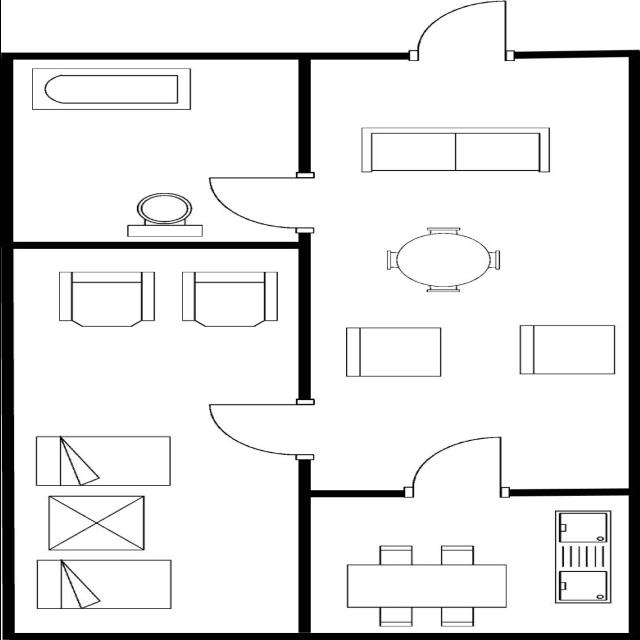armchair: (174, 268, 284, 330), (53, 268, 159, 330)
bed: (29, 432, 178, 490), (31, 556, 176, 612)
coffee_table: (41, 492, 150, 552)
dining_table: (338, 542, 512, 630)
large_sink: (123, 189, 205, 239)
large_sofa: (356, 124, 558, 174)
round_table: (380, 222, 508, 294)
small_sofa: (341, 324, 446, 380), (514, 322, 620, 376)
tub: (24, 65, 196, 113)
twin_sink: (549, 506, 615, 606)
